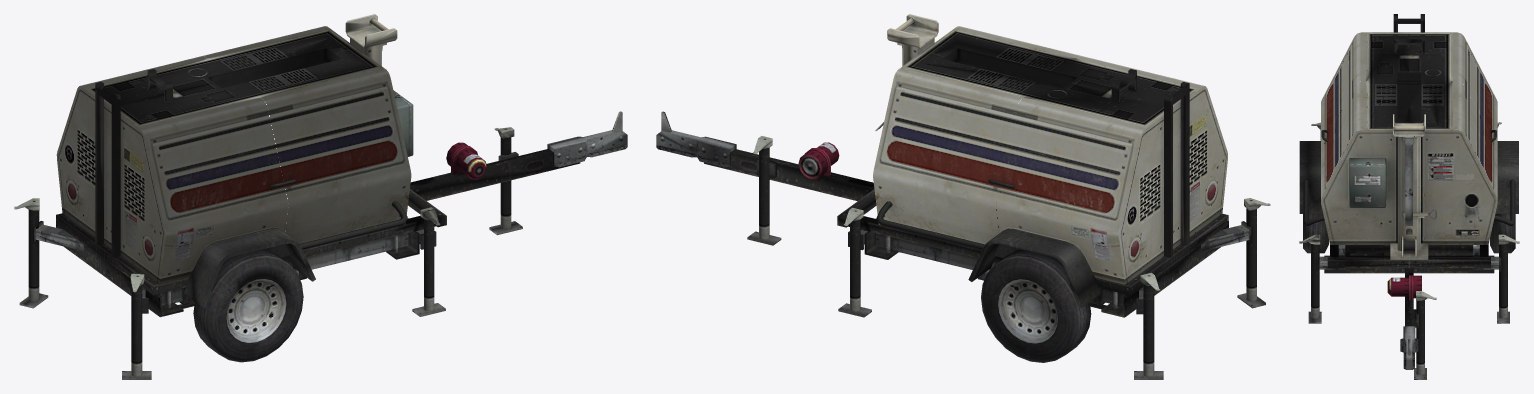
The model's file is floodlight_generator_nolight_model.obj.
3 renders of one model, left to right at view 1: azimuth 30°, elevation 25°; view 2: azimuth 150°, elevation 25°; view 3: azimuth 270°, elevation 25°, orthographic. The views are drawn at different scales.
Parts seen in each view (by area): view 1: (null); view 2: (null); view 3: (null).
Boxes of the visible parts, x1=… form: (null): x1=14, y1=14, x2=627, y2=379; (null): x1=656, y1=14, x2=1270, y2=379; (null): x1=1299, y1=14, x2=1519, y2=379.
Size of the model in its own units: 147 by 62.16 by 61.71.
Materials: 1 (1 with a texture image).
